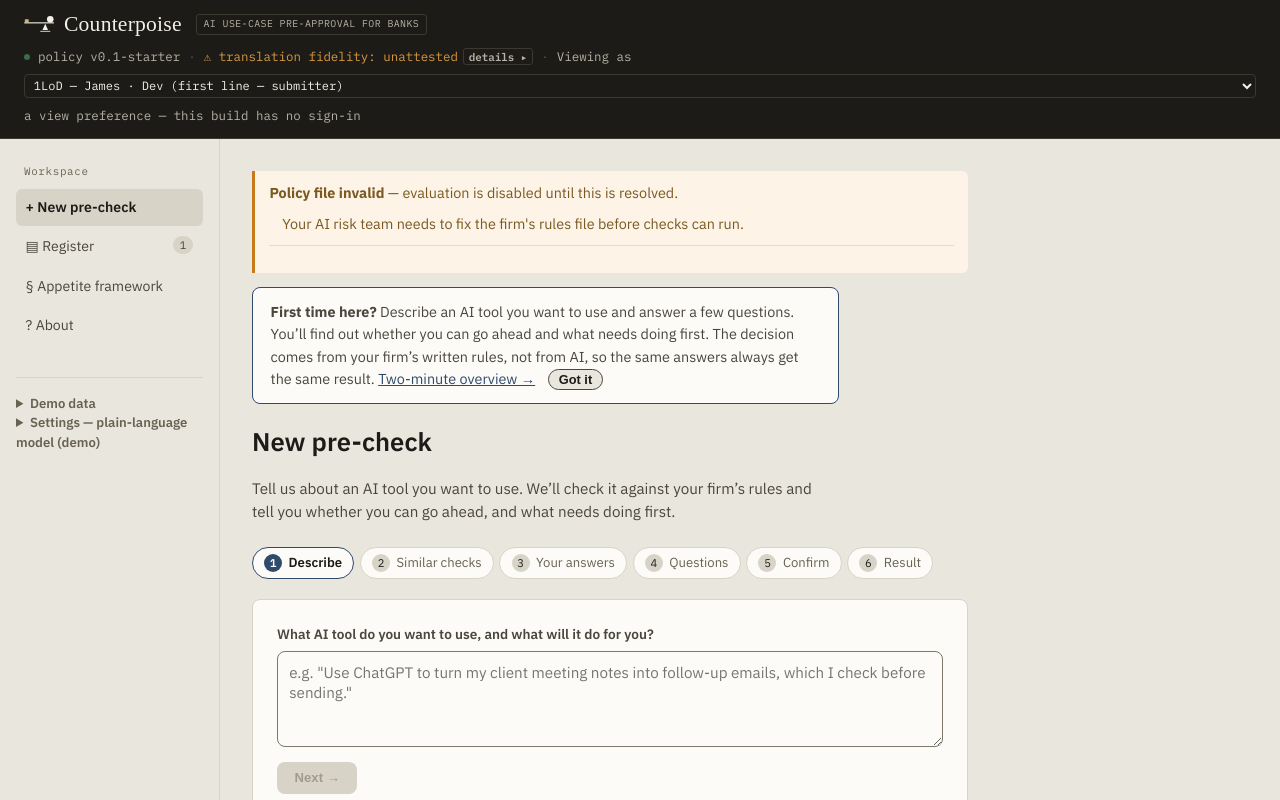
Test: App — R15-C1 role switcher honesty › TC-R15-C1-10: the 1LoD register scope note is reworded to the honest view-preference wording
Click the button "▤ Register 1".
click(110, 247)  # box [16,228,203,266]
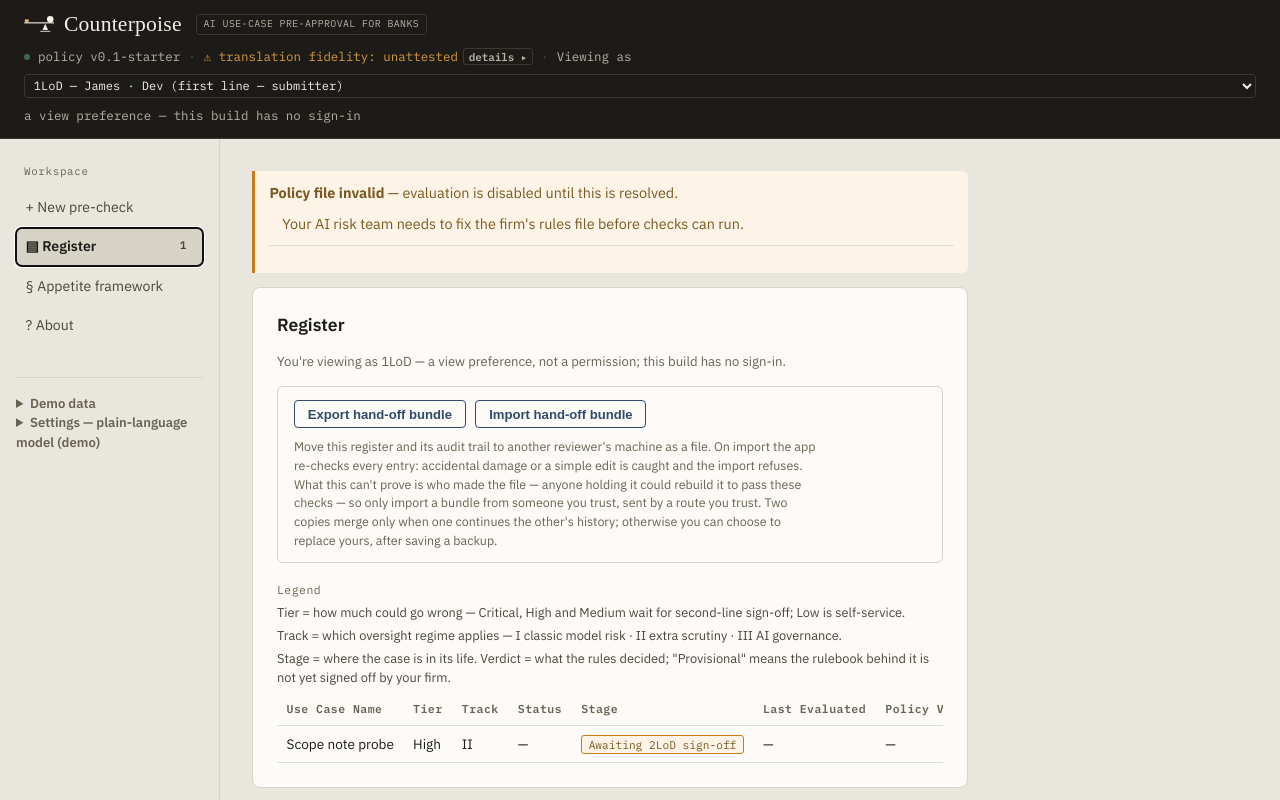
Check: the text "You're viewing as 1LoD — a view preference, not a permission; this build has no sign-in." is shown, box [277,353,786,370]
